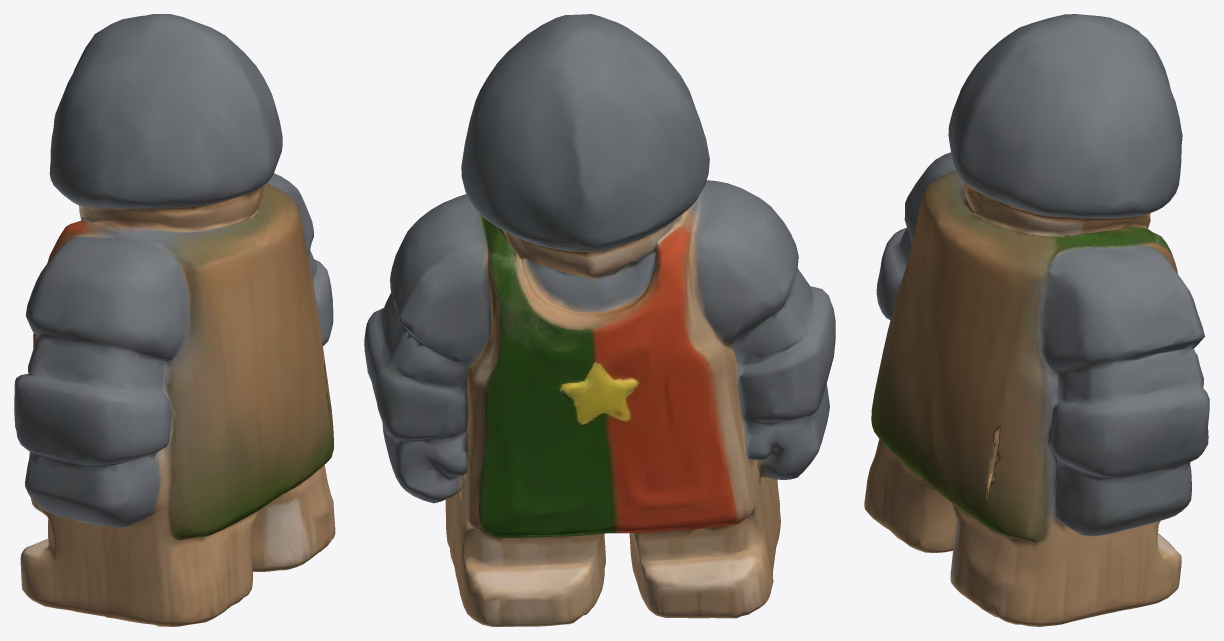
Rendered from piece-champ.glb.
The picture shows the model from 3 angles, left to right: view 1: azimuth 30°, elevation 25°; view 2: azimuth 150°, elevation 25°; view 3: azimuth 270°, elevation 25°; orthographic projection. The views are drawn at different scales.
Visible parts, largest first — view 1: geometry_0; view 2: geometry_0; view 3: geometry_0.
Boxes of the visible parts, x1,y1,x2,y2 form: geometry_0: [14, 14, 335, 626]; geometry_0: [364, 14, 835, 626]; geometry_0: [864, 14, 1209, 626].
Bounding box in the file's own units: 0.6167 × 0.8683 × 0.4921.
Materials: 1 (1 with a texture image).
